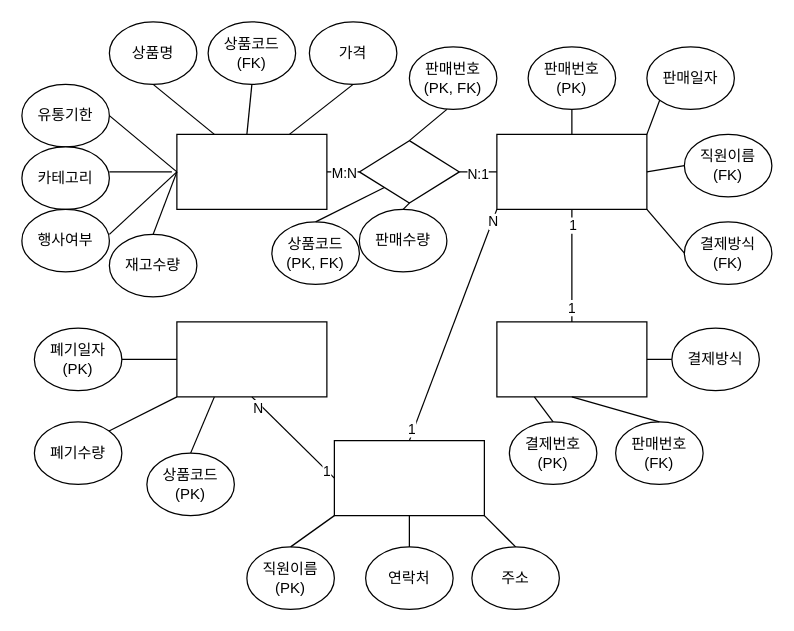
Image size: 794x631. Some labels were removed from this diagram. The box of each missing label's shape, as (x1, y1, x2, y2) in pixels:
결제: (496, 321, 647, 397)
상품: (176, 133, 327, 209)
직원: (333, 439, 484, 516)
판매: (496, 133, 647, 209)
판매상세: (358, 139, 459, 203)
폐기: (176, 321, 327, 397)
